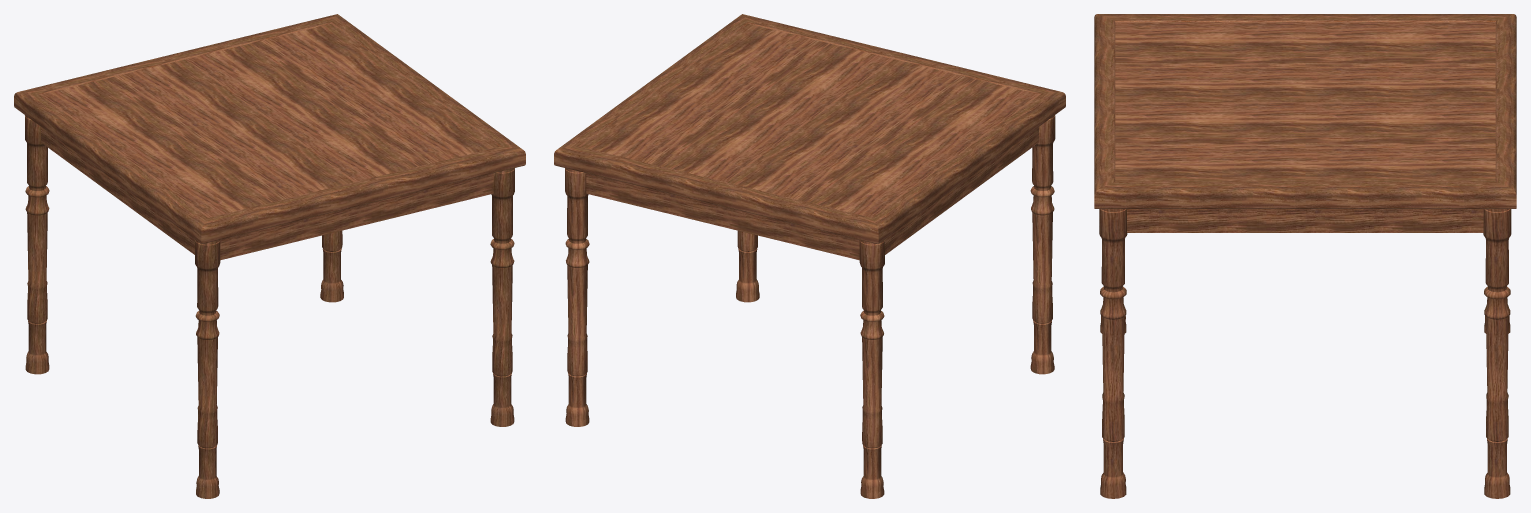
Rendered from table2_final.obj.
The picture shows the model from 3 angles, left to right: view 1: azimuth 30°, elevation 25°; view 2: azimuth 150°, elevation 25°; view 3: azimuth 270°, elevation 25°; orthographic projection. The views are drawn at different scales.
Parts seen in each view (by area): view 1: Mesh; view 2: Mesh; view 3: Mesh.
Boxes of the visible parts, box(x1,y1,x2,y2) form: Mesh: box(14, 14, 525, 498); Mesh: box(554, 14, 1065, 498); Mesh: box(1094, 14, 1516, 498).
Bounding box in the file's own units: 1 × 0.8119 × 1.
Materials: 1 (1 with a texture image).
